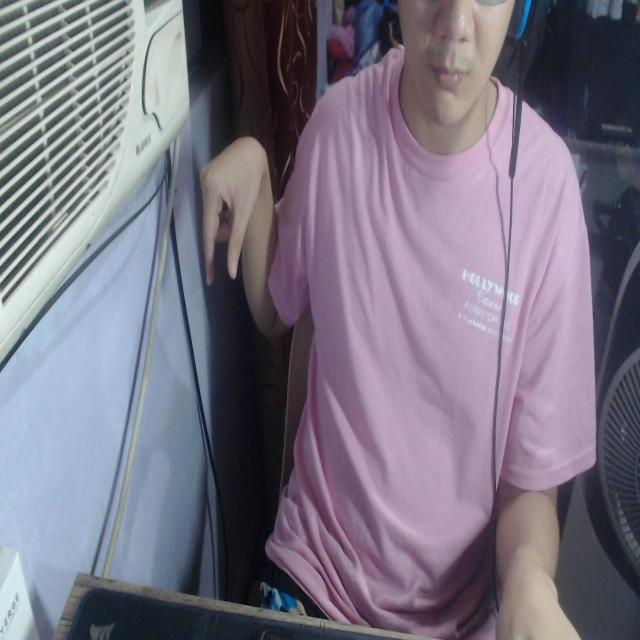Q: (200, 134, 269, 287)
